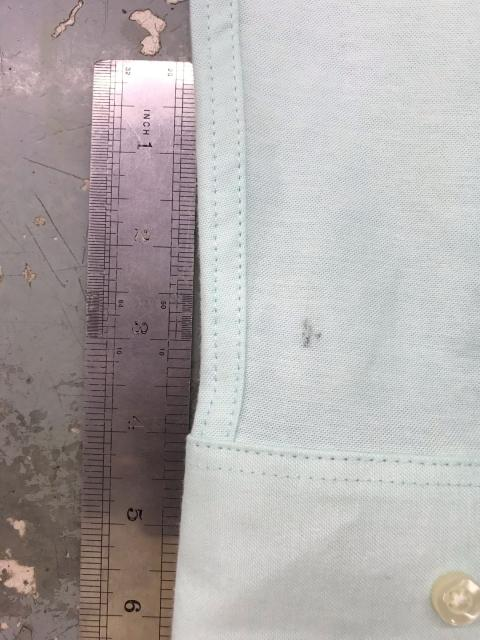Dirty_mark: (299, 319, 324, 354)
